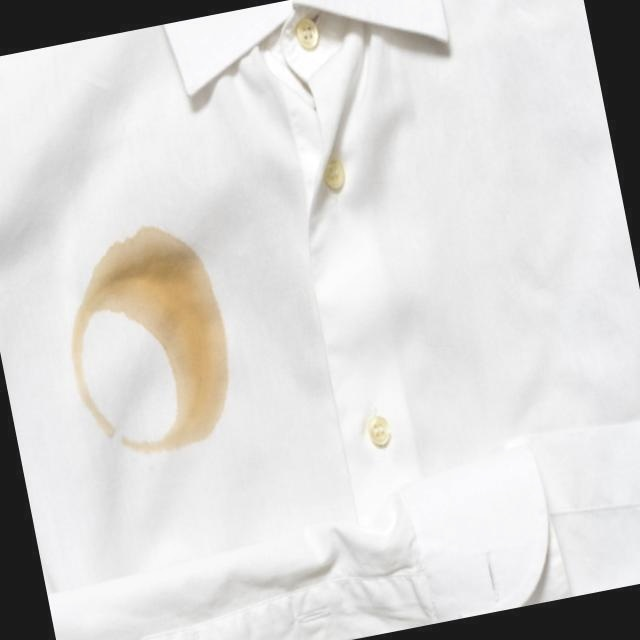coffee: (85, 226, 225, 326), (164, 328, 235, 448)
